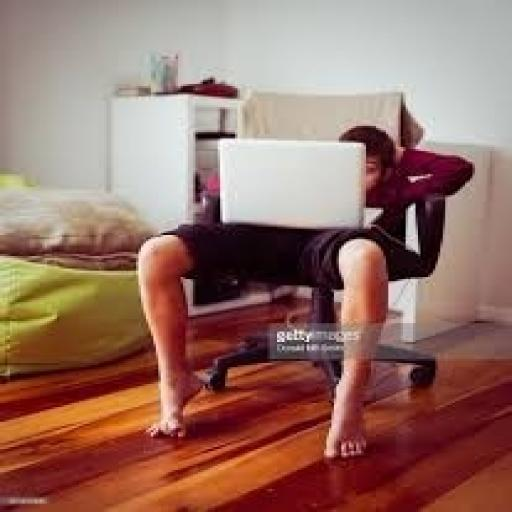using_laptop: (213, 134, 378, 231)
